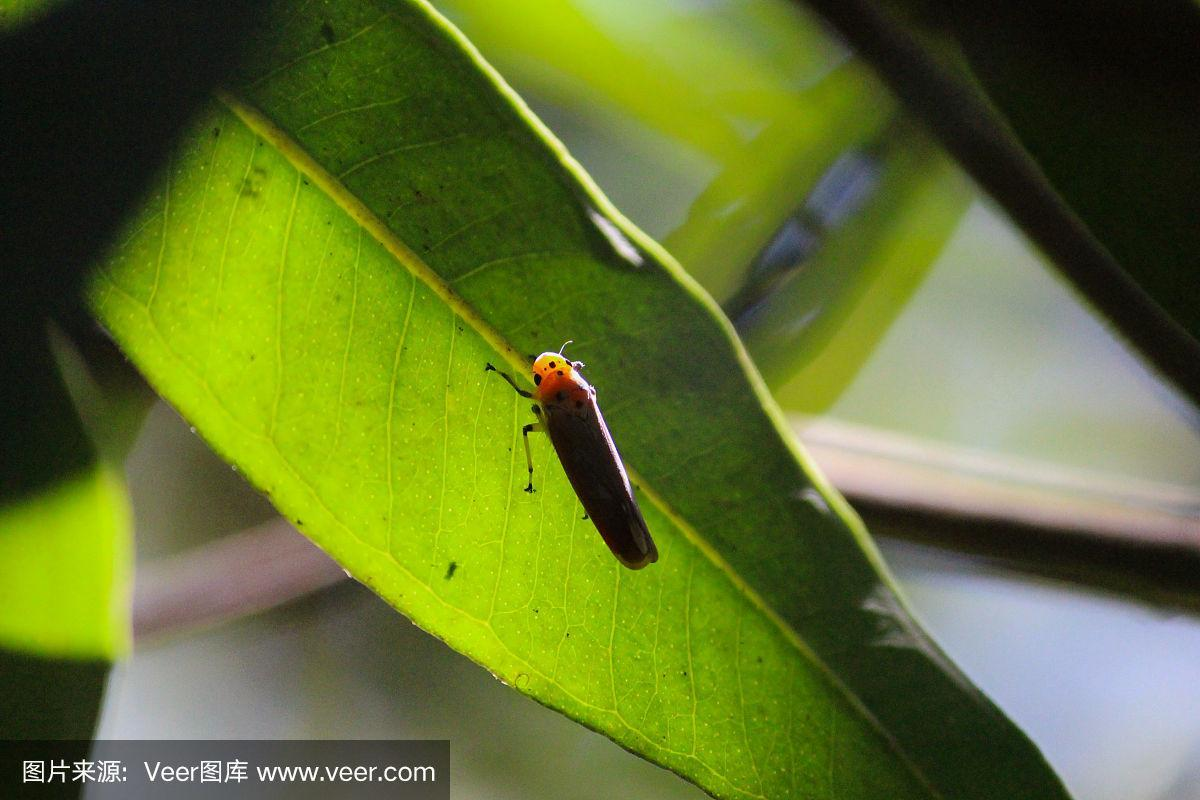Cicadellidae: (496, 346, 659, 576)
